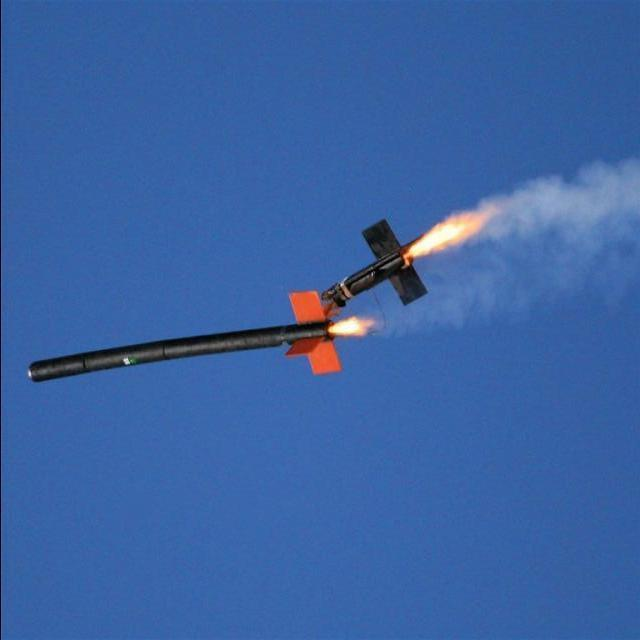missile: (27, 284, 359, 423), (337, 216, 436, 317)
